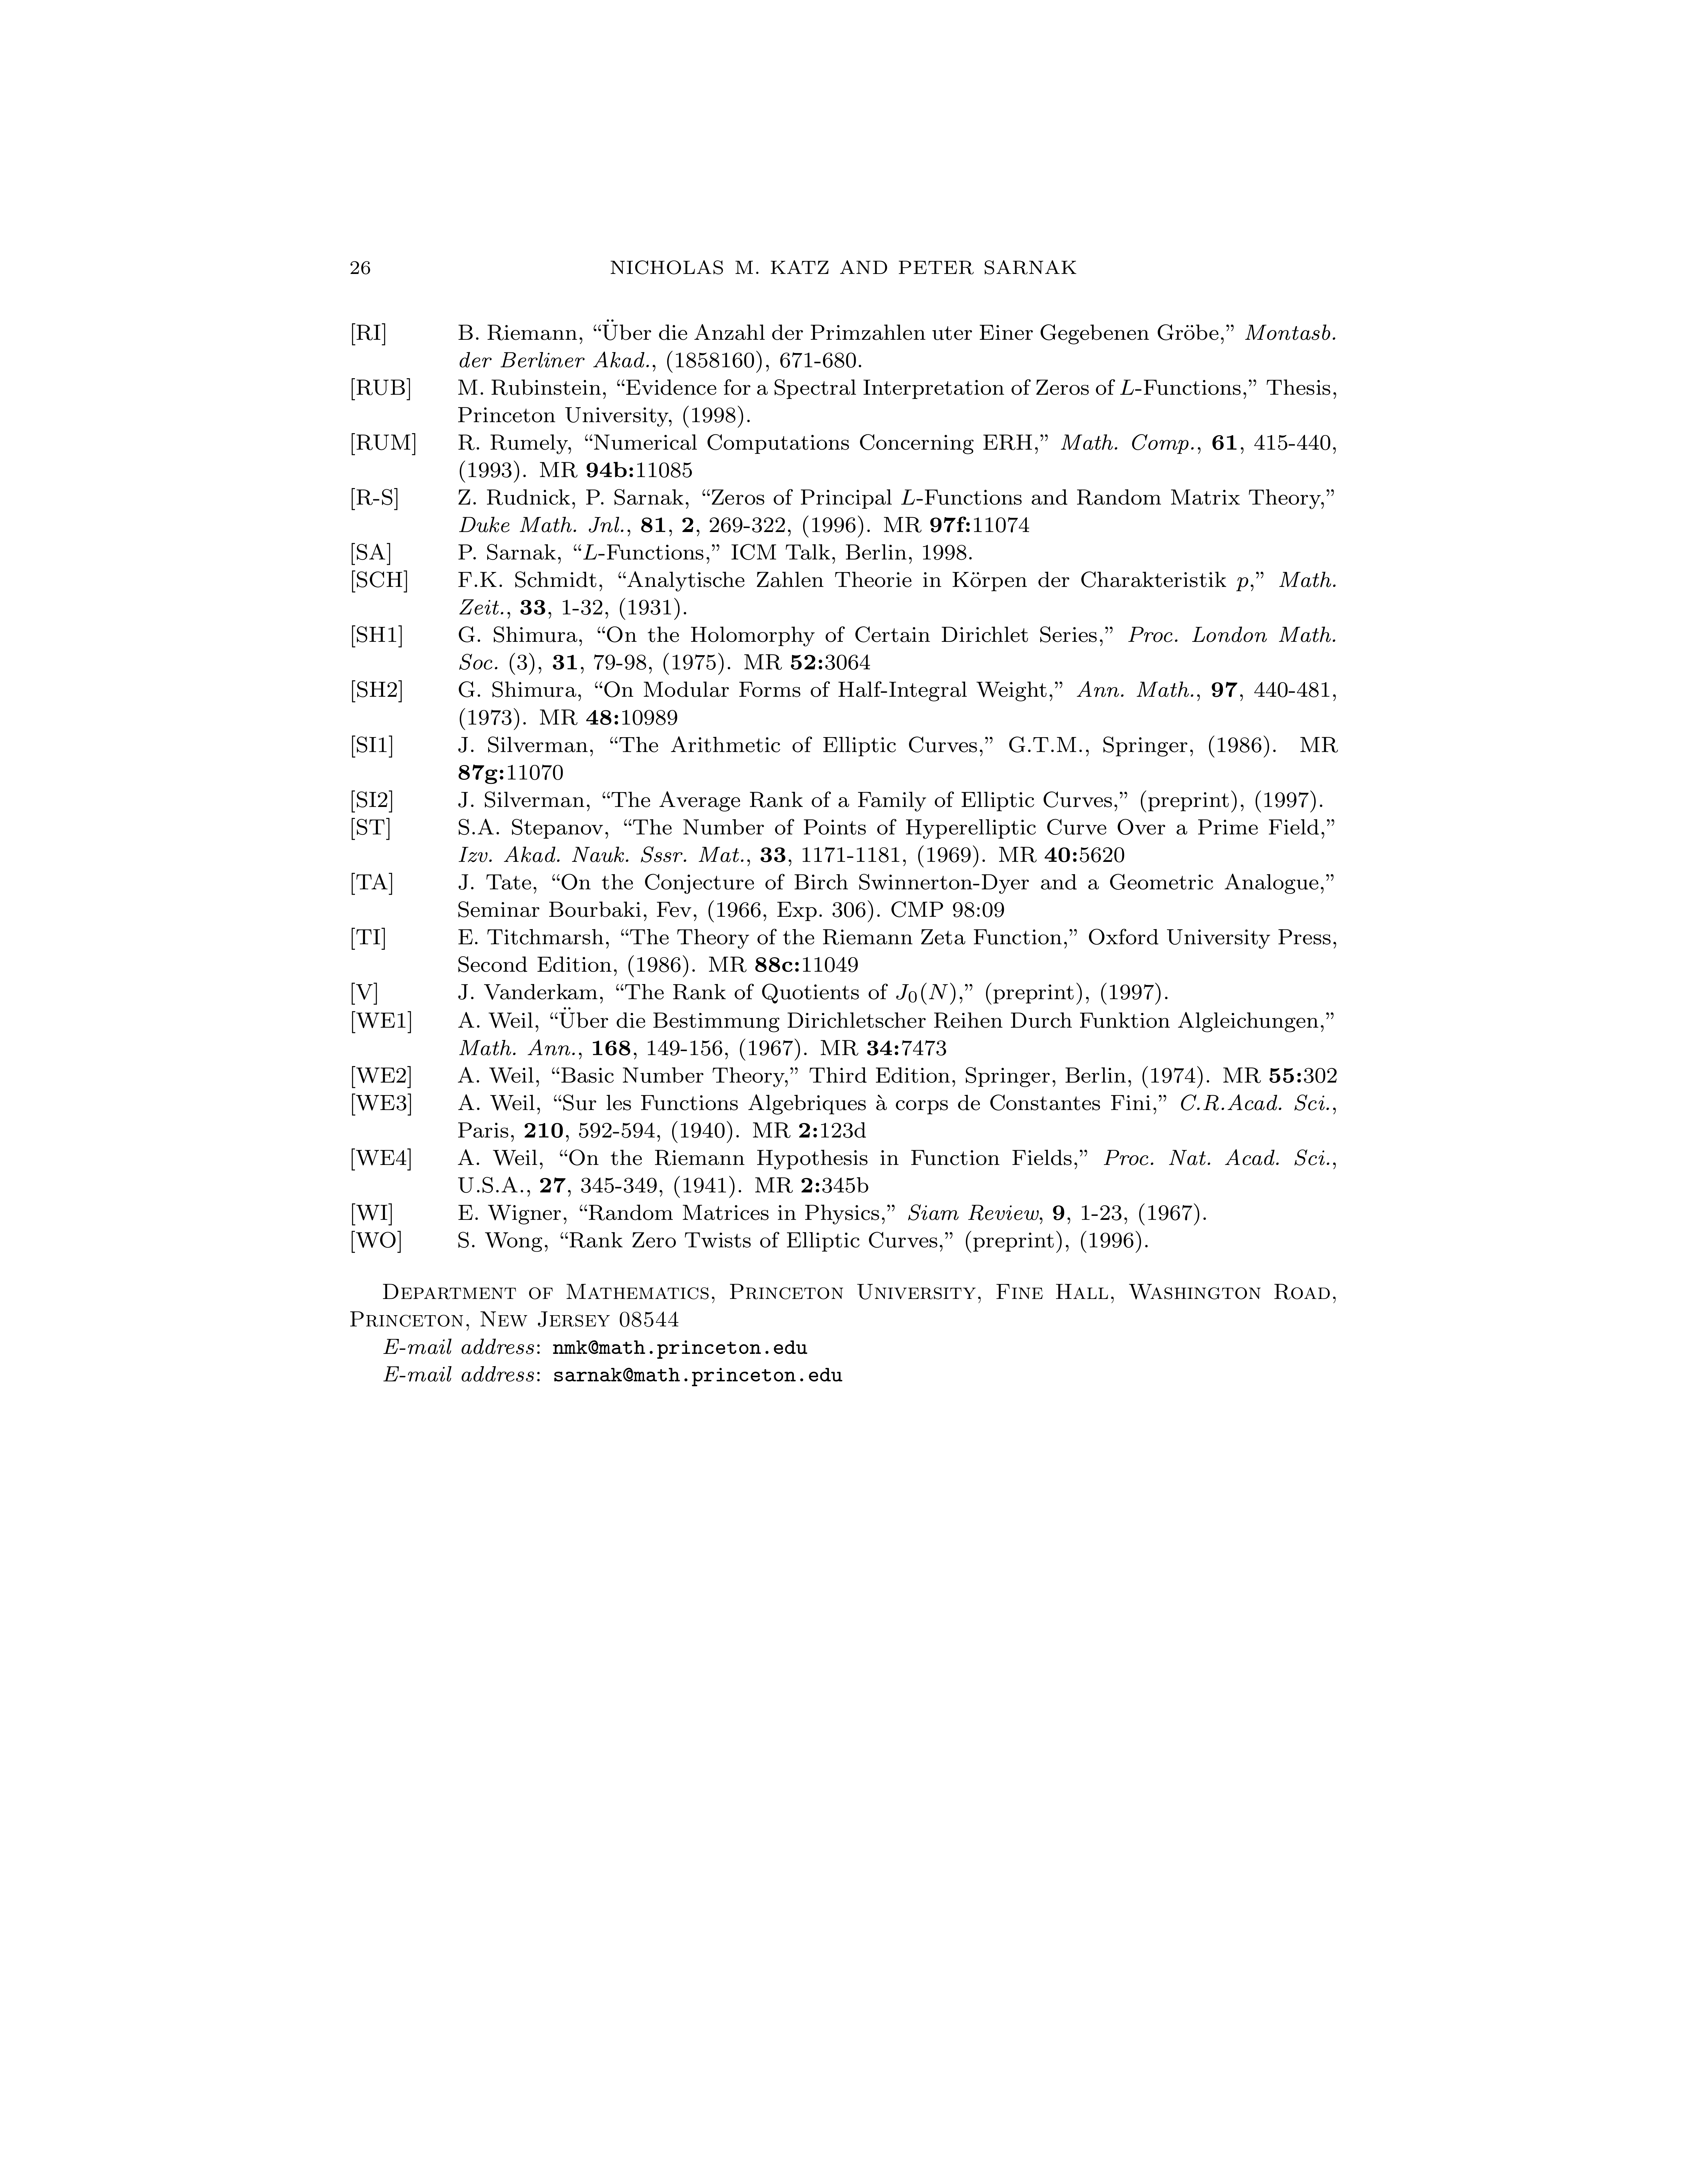maths: (897, 982, 962, 1005), (1120, 379, 1134, 394), (900, 489, 914, 503), (583, 544, 597, 558), (1237, 578, 1253, 590)
